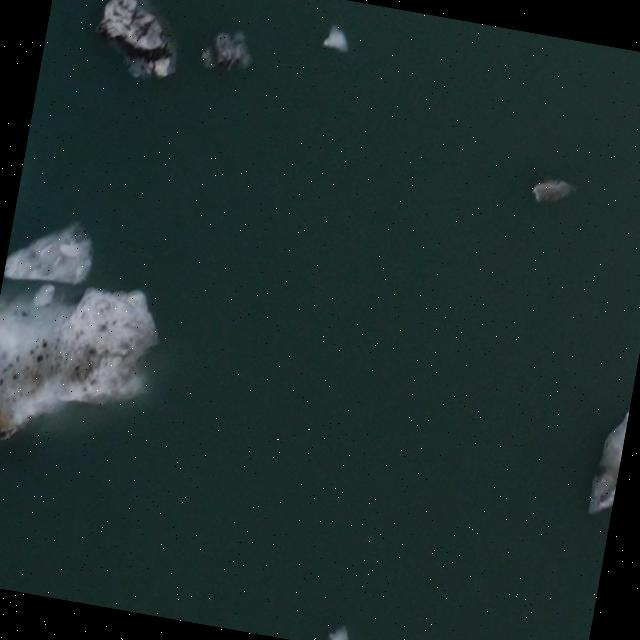seal: (0, 408, 13, 436)
